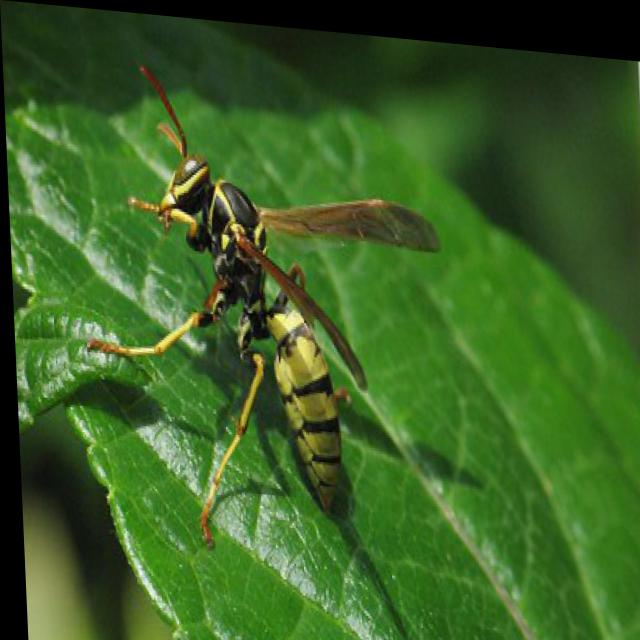Guepe: (66, 40, 459, 554)
